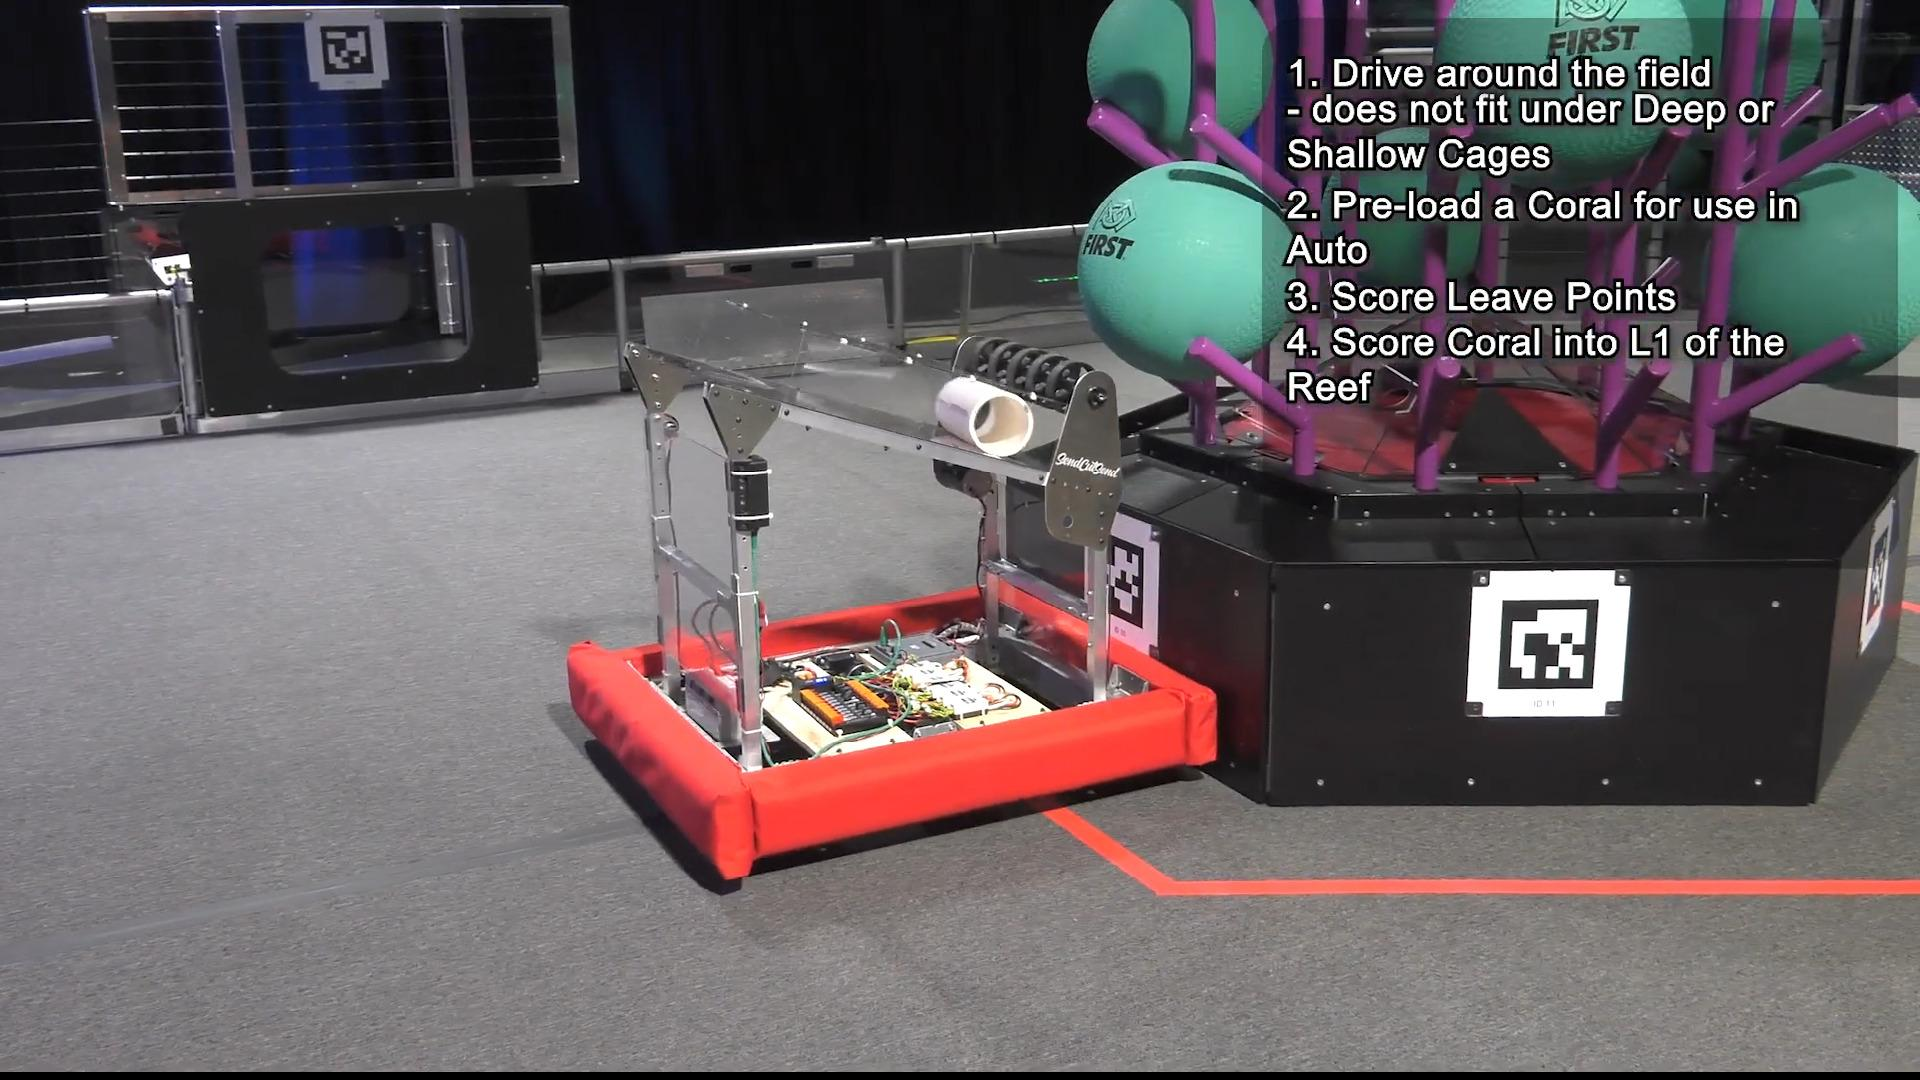coral: (932, 373, 1034, 460)
